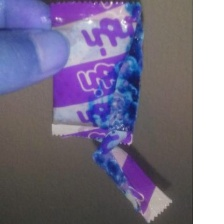snack: (41, 0, 178, 224)
